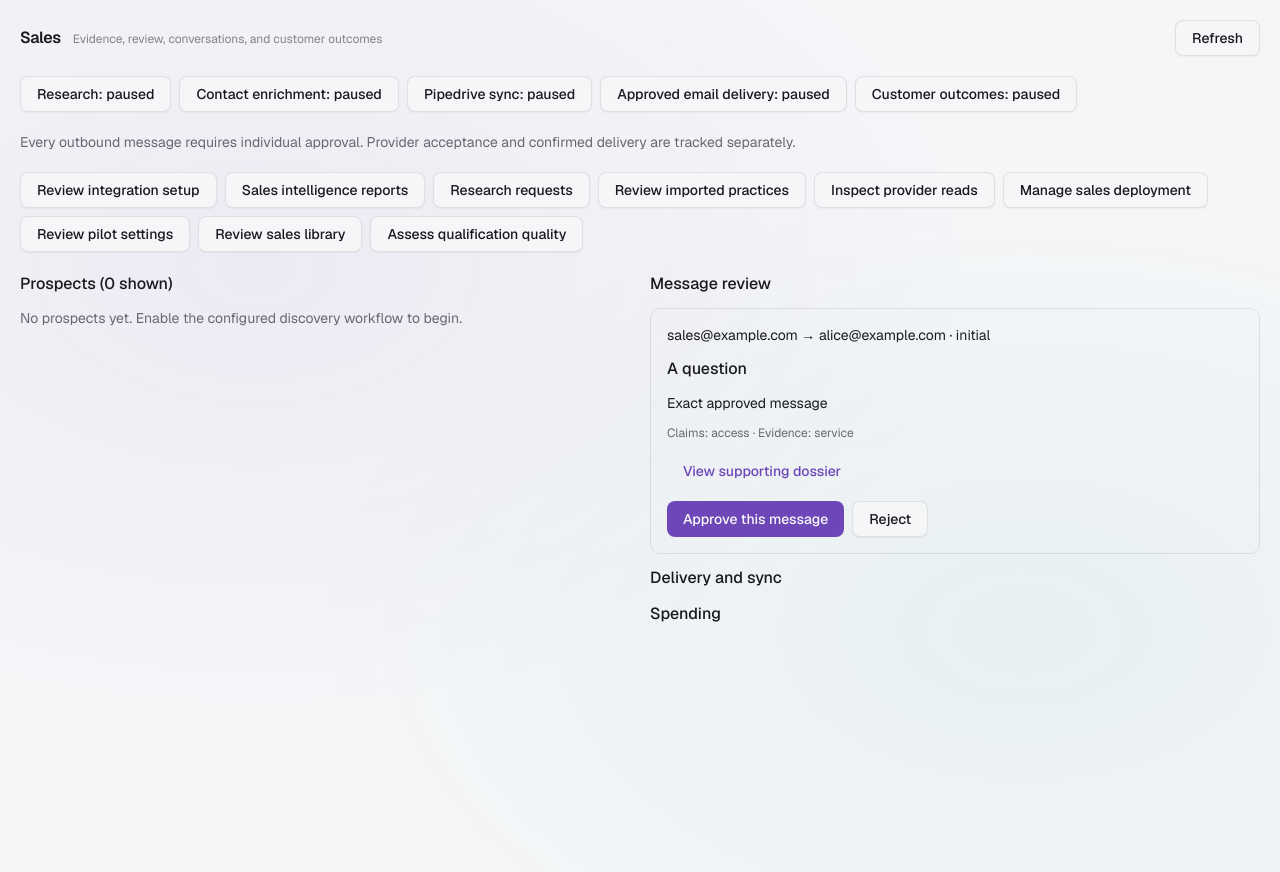
it: loads pilot settings only when the operator opens the editor
Expected: the text "Exact approved message" is shown, [667,394,828,412]
Step 1. Click the button "Review pilot settings" → (105, 234), box [20,216,190,252]
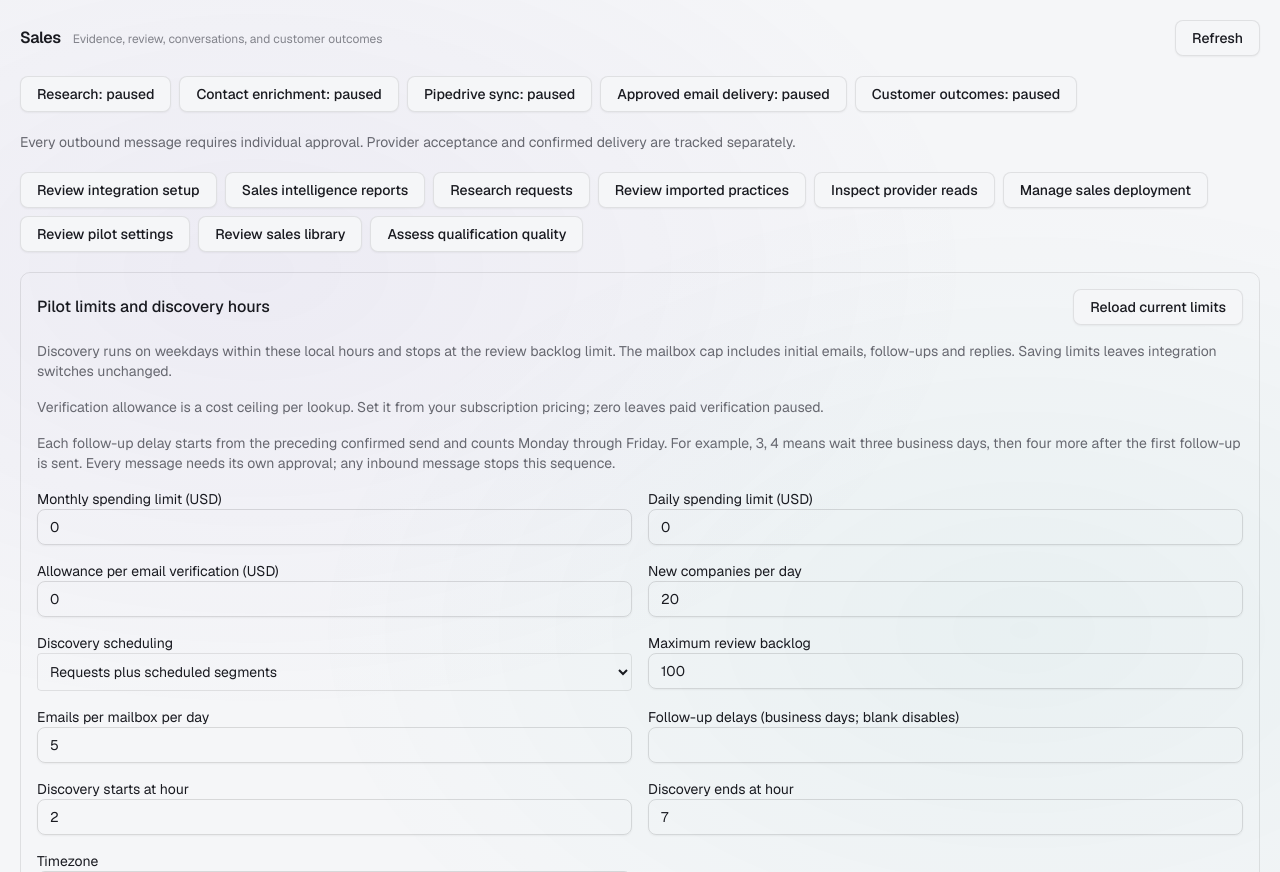
Result: the field labelled "Monthly spending limit (USD)" holds "0" at [37,509,632,545]
